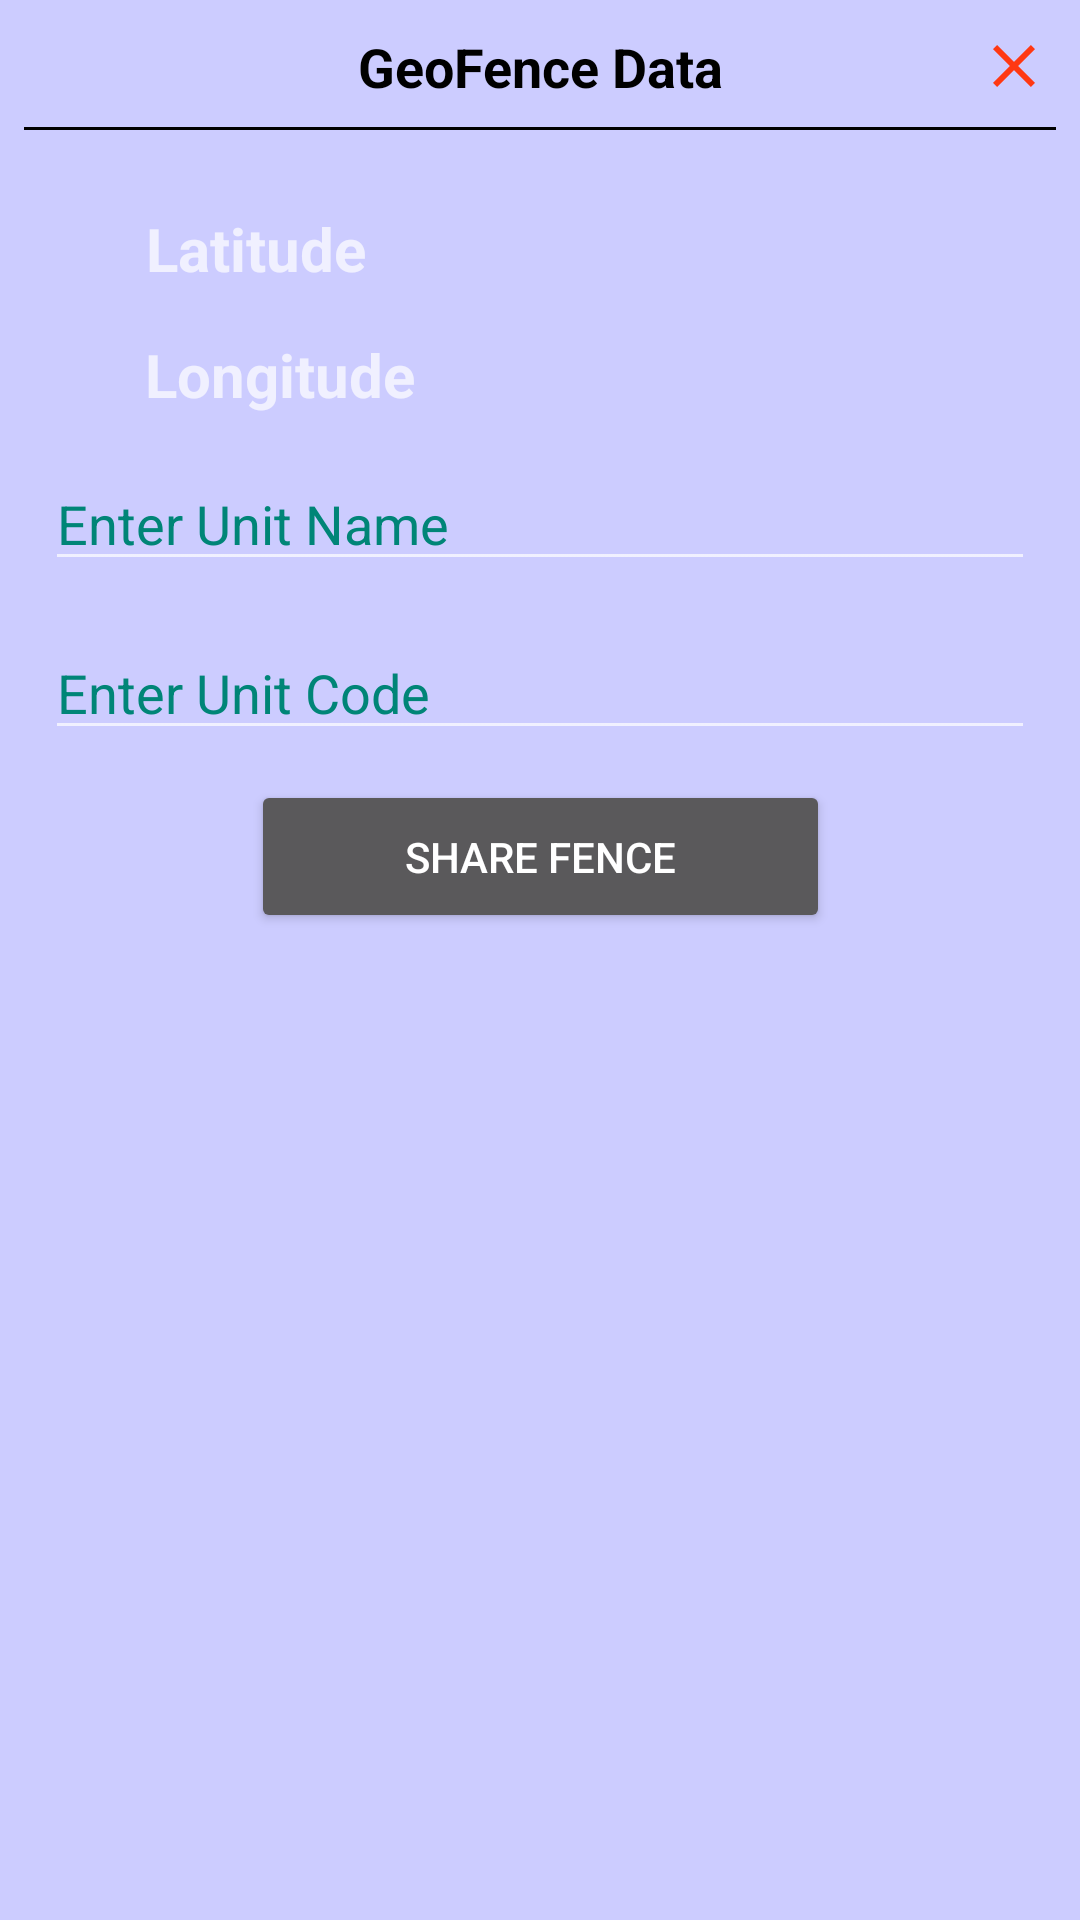

Where to tap for icons on this 1080x1920 app screen, as point (x, y):
close: point (1014, 66)
